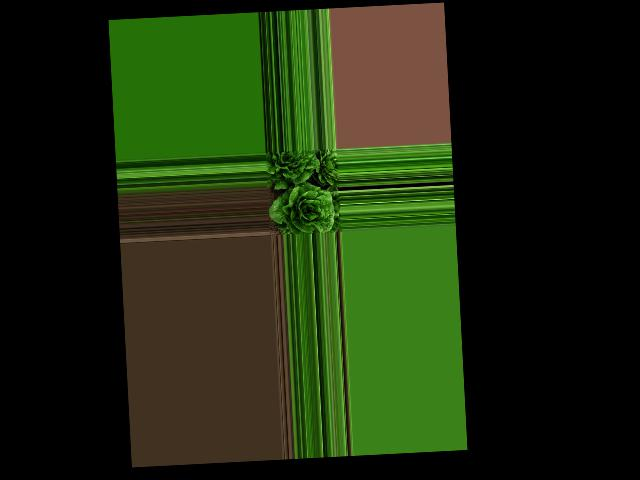lettuce: (266, 148, 320, 185)
